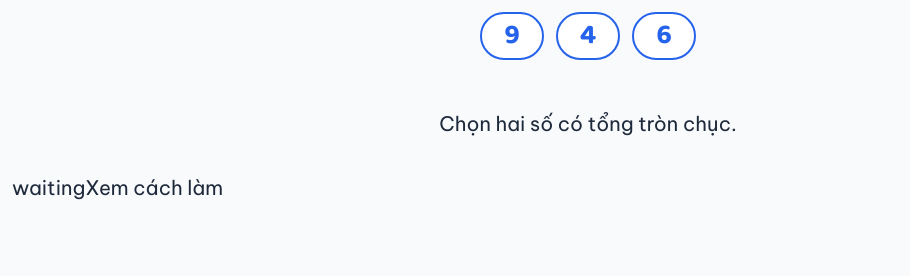
Test: addition and subtraction: make a round sum › goes green with the closing line when the pair is round
Step 1. Click the button "4" → point(588, 36), box x1=556 y1=12 x2=620 y2=60
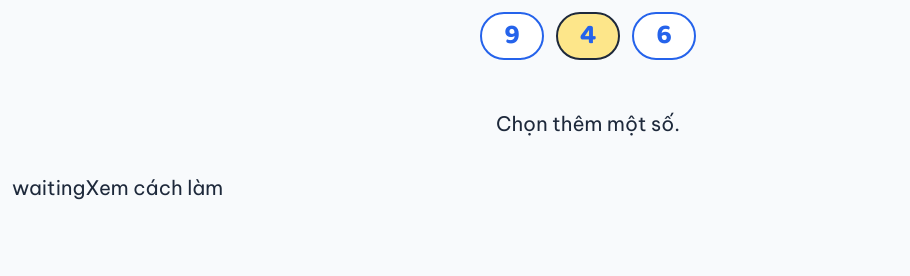
Step 2. Click the button "6" → point(664, 36), box x1=632 y1=12 x2=696 y2=60
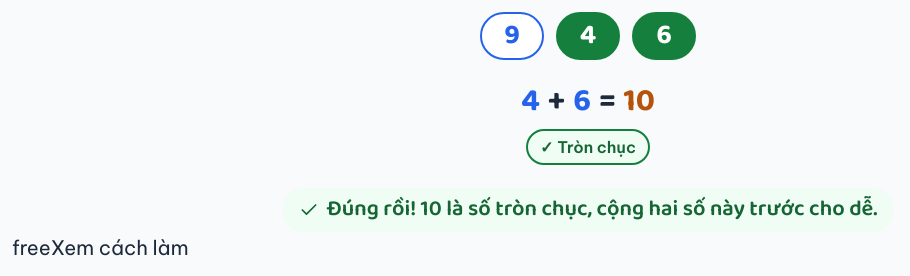
Expected: the button "9" is disabled, x1=480 y1=12 x2=544 y2=60
Result: the element showing "Đúng rồi! 10 là số tròn chục, cộng hai số này trước cho dễ." is shown at x1=282 y1=188 x2=893 y2=232
Result: the text with test id "bar" reads "free" at x1=12 y1=234 x2=51 y2=260
